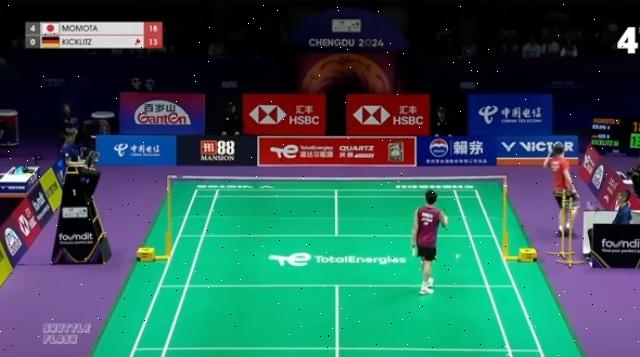Shuttlecock: (452, 252, 462, 260)
